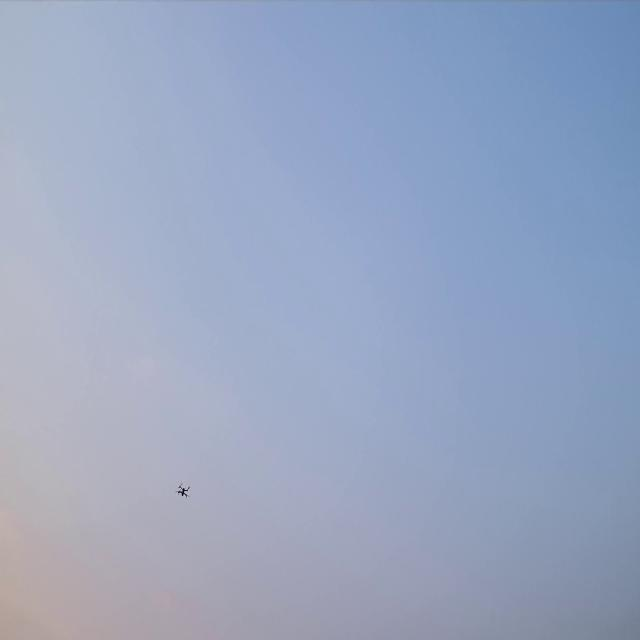UAV: (178, 486, 188, 497)
